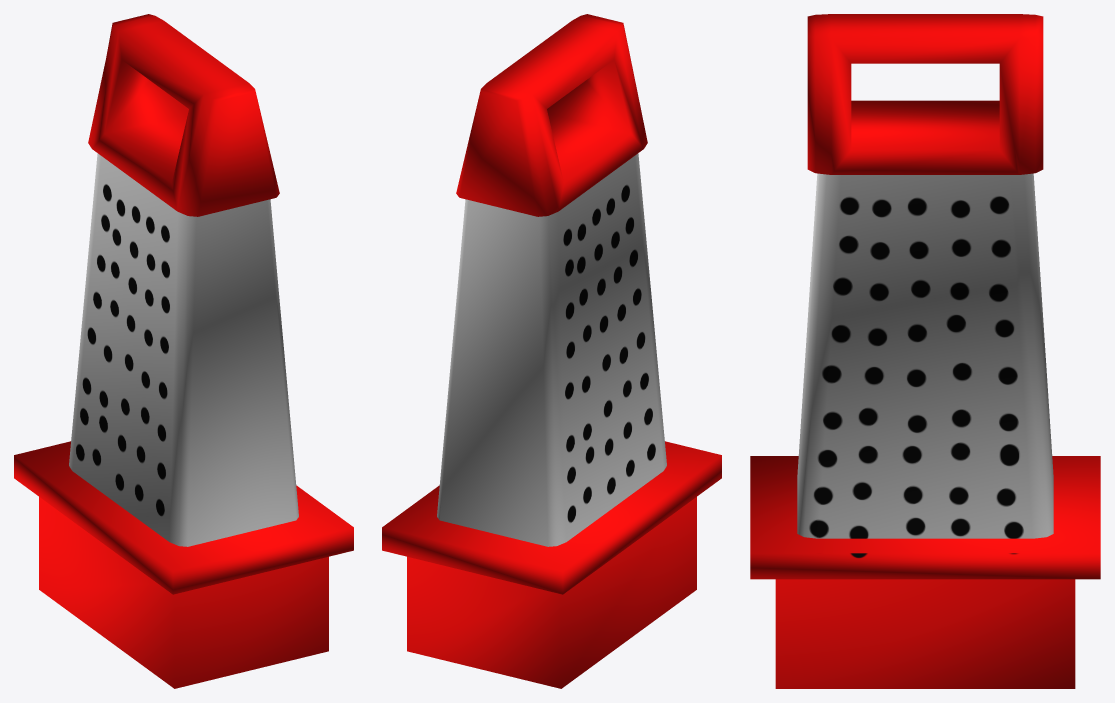
Rendered from Grater_Placeholder.glb.
The picture shows the model from 3 angles, left to right: view 1: azimuth 30°, elevation 25°; view 2: azimuth 150°, elevation 25°; view 3: azimuth 270°, elevation 25°; orthographic projection. The views are drawn at different scales.
Parts seen in each view (by area): view 1: Grater_Placeholder; view 2: Grater_Placeholder; view 3: Grater_Placeholder.
Part boxes in pixels (x1,y1,x2,y2): Grater_Placeholder: (14,14,353,688); Grater_Placeholder: (382,14,721,688); Grater_Placeholder: (750,14,1100,688).
Size of the model in its own units: 0.1641 by 0.4882 by 0.2497.
Materials: 2 (2 with a texture image).
